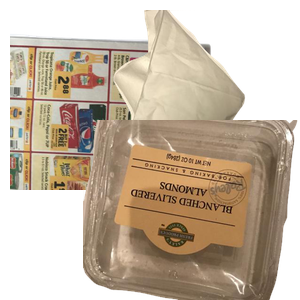glass: (102, 181, 246, 300)
paper: (10, 31, 214, 211)
plastic: (83, 120, 300, 300)
trash: (111, 10, 300, 190)
